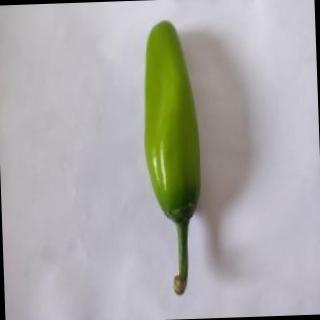Cabai Hijau: (135, 16, 214, 304)
